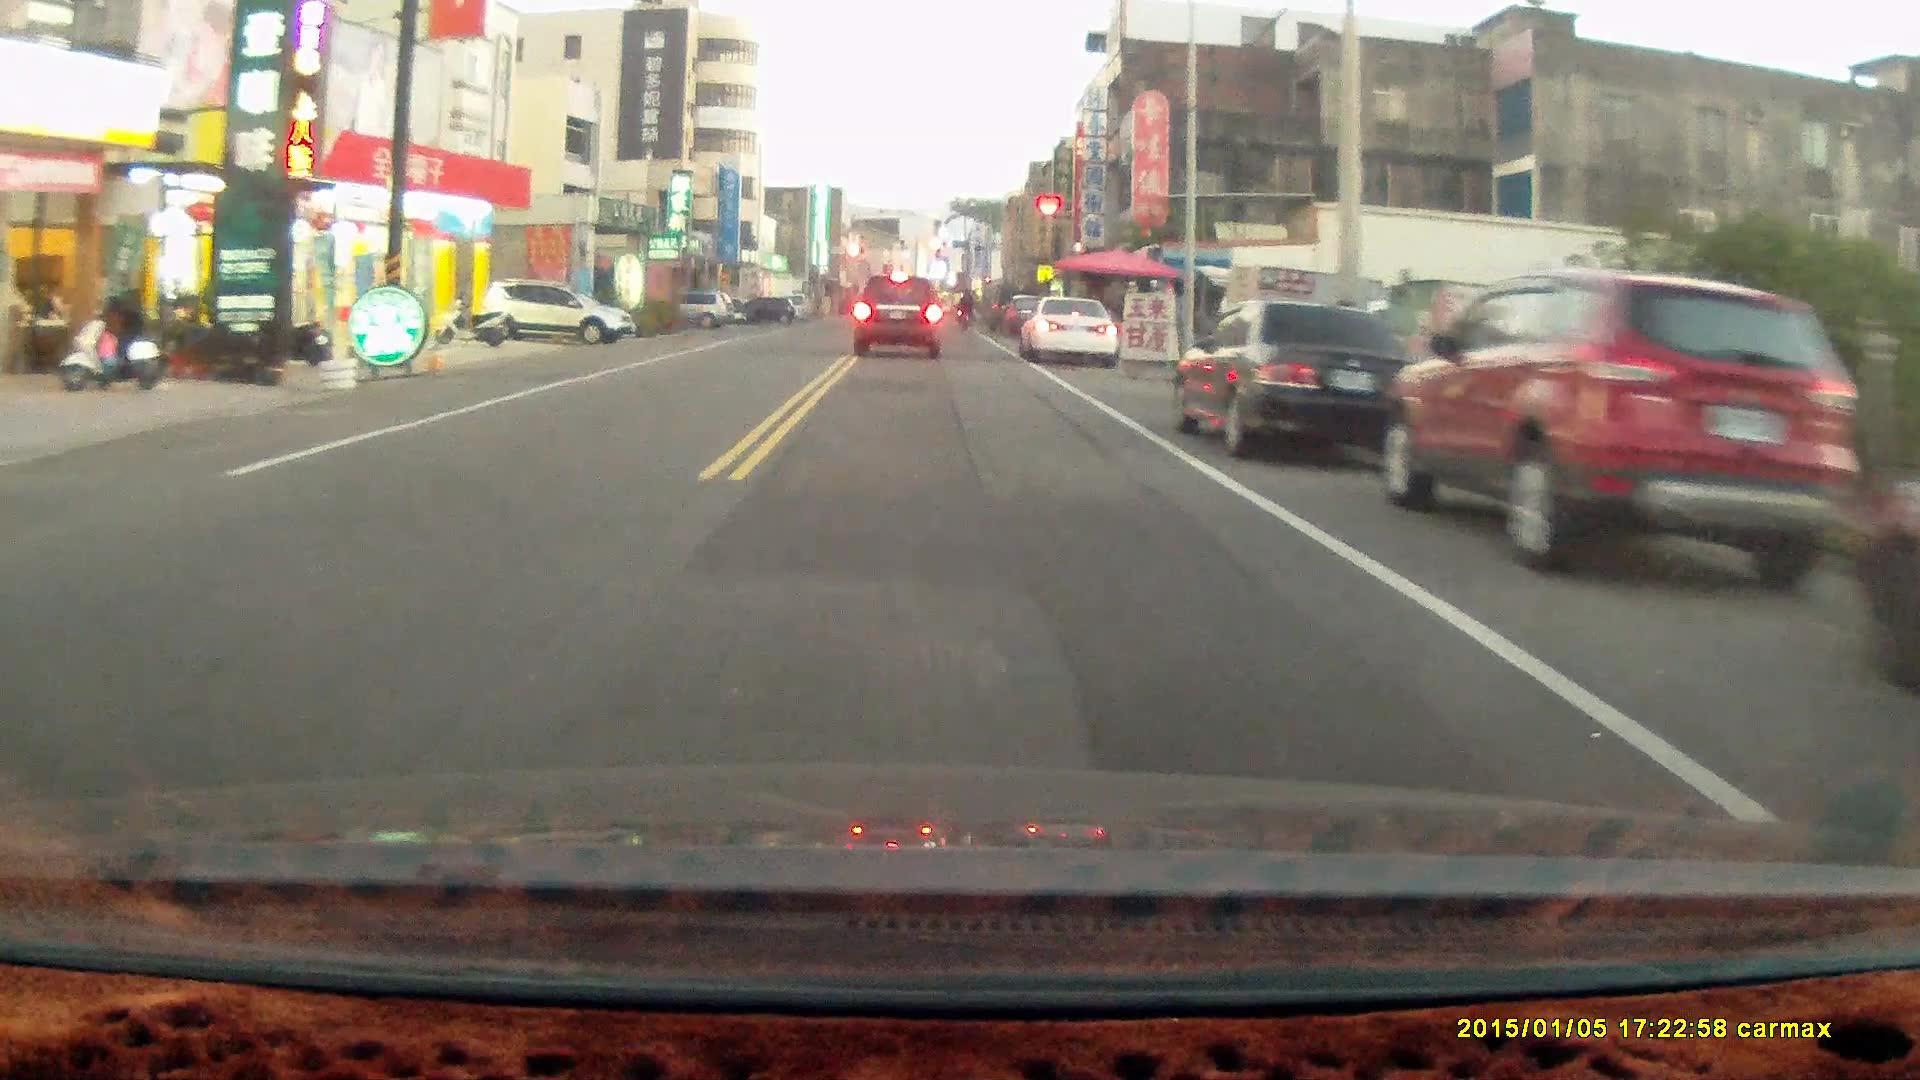vehicle: (1386, 264, 1875, 592), (1167, 298, 1418, 462), (483, 280, 641, 353), (855, 273, 944, 359), (1022, 295, 1124, 368)
